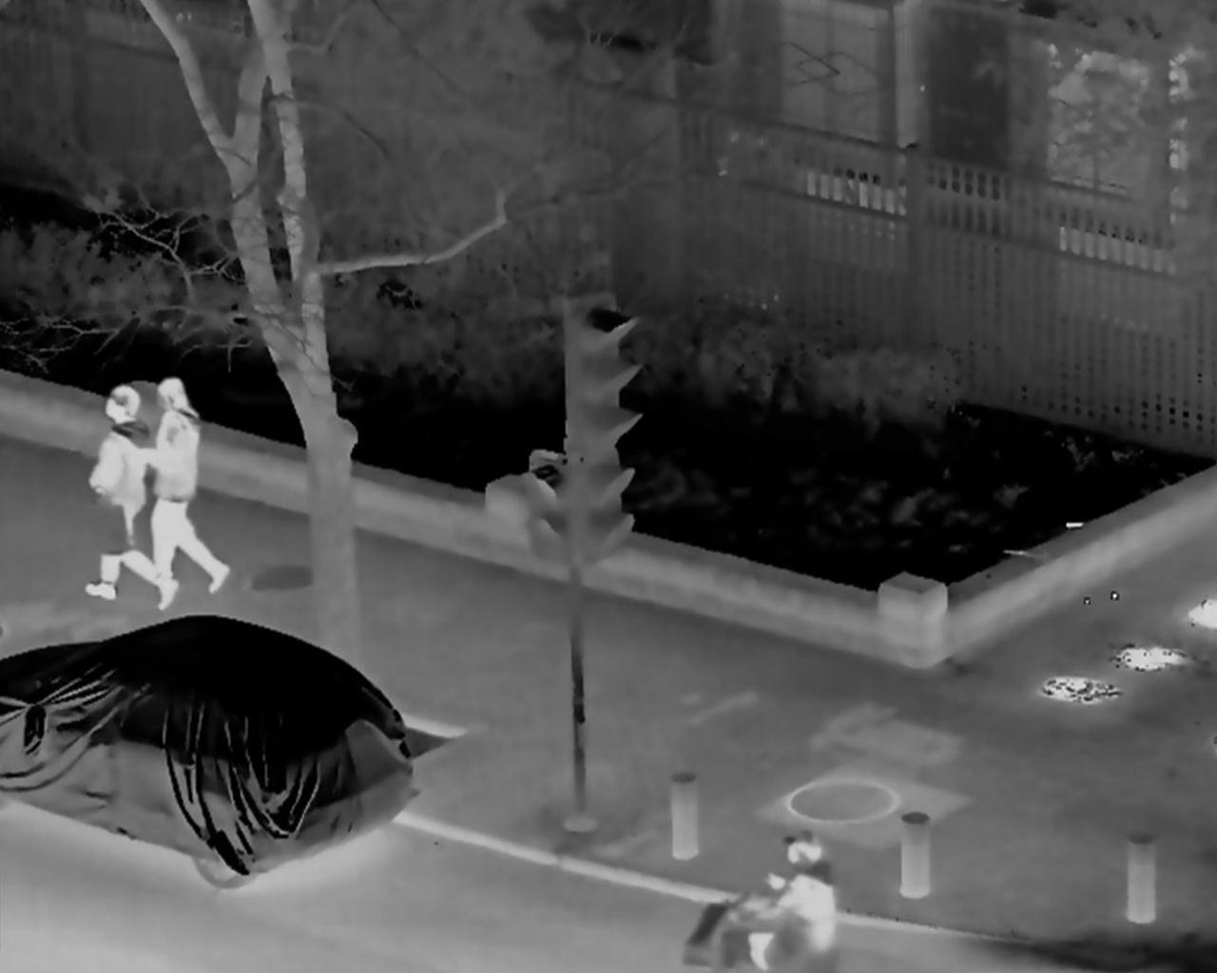person: (75, 384, 179, 610), (135, 380, 235, 598), (742, 831, 831, 973)
